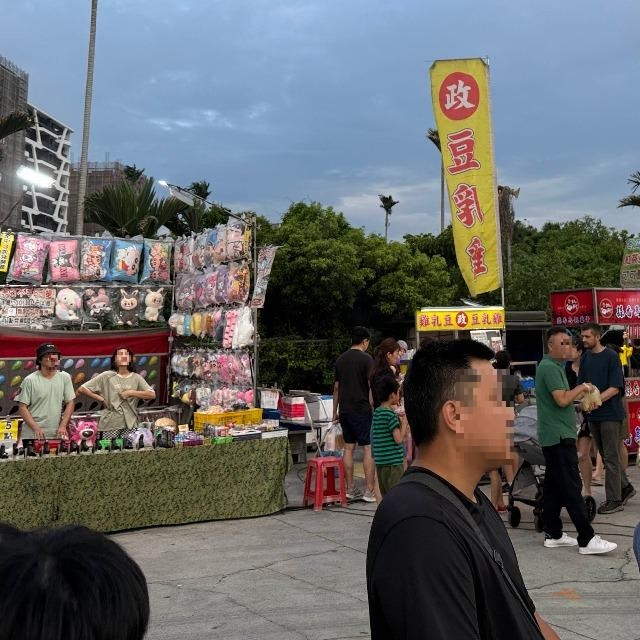NoHelmet: (402, 338, 511, 471)
NoVest: (18, 367, 76, 440), (534, 360, 578, 447), (95, 369, 150, 429)
